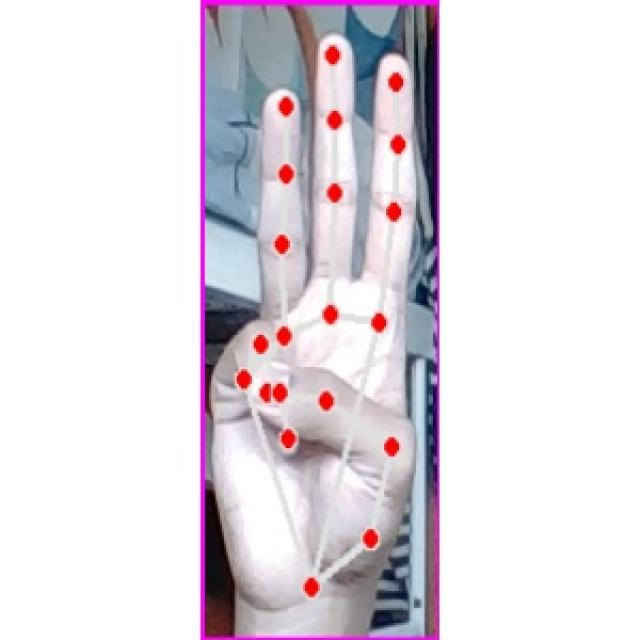W: (216, 28, 416, 608)
